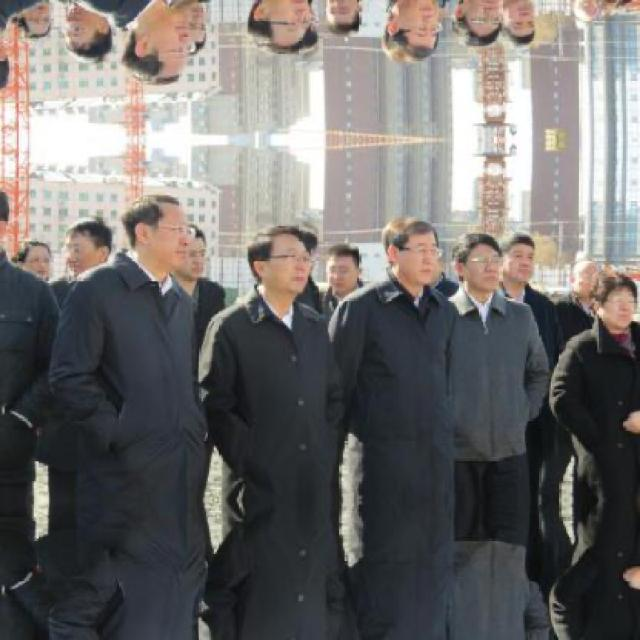sin casco: (362, 210, 460, 333), (570, 232, 640, 394), (120, 193, 204, 316), (266, 222, 336, 344), (462, 218, 536, 315), (494, 201, 560, 292)
